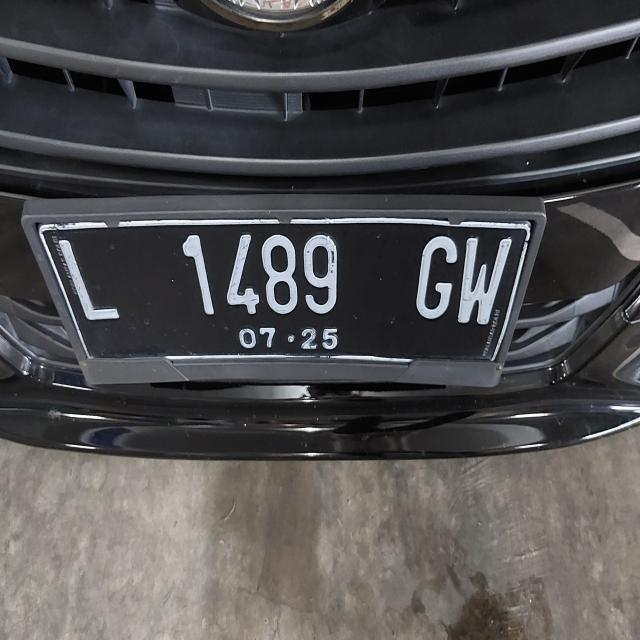1: (162, 210, 225, 337)
4: (214, 206, 266, 329)
8: (255, 216, 302, 326)
9: (296, 212, 349, 320)
G: (413, 220, 458, 338)
L: (46, 221, 137, 345)
W: (454, 217, 514, 337)
